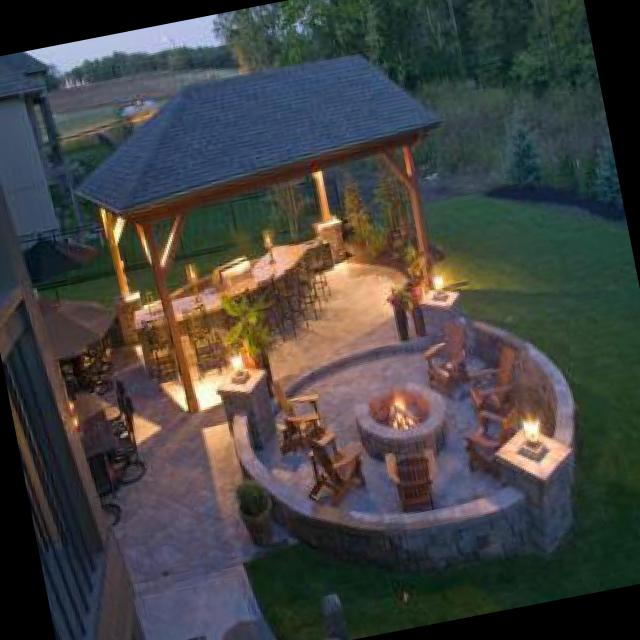Fire: (377, 386, 426, 444)
